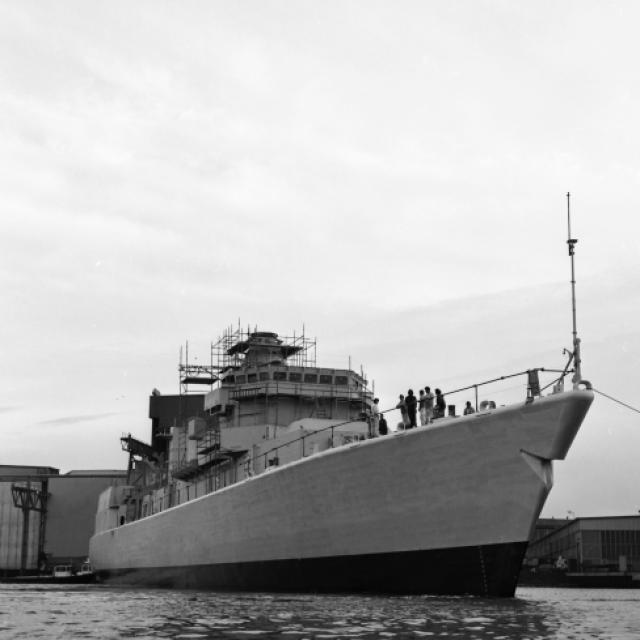Fragata: (84, 170, 598, 597)
